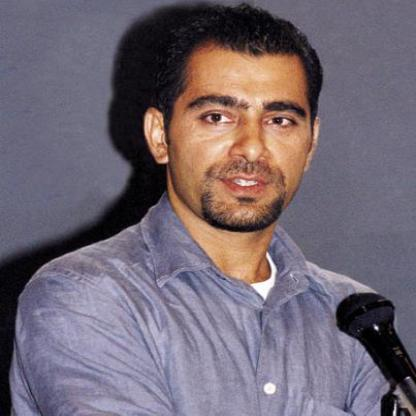face: (167, 16, 319, 235)
